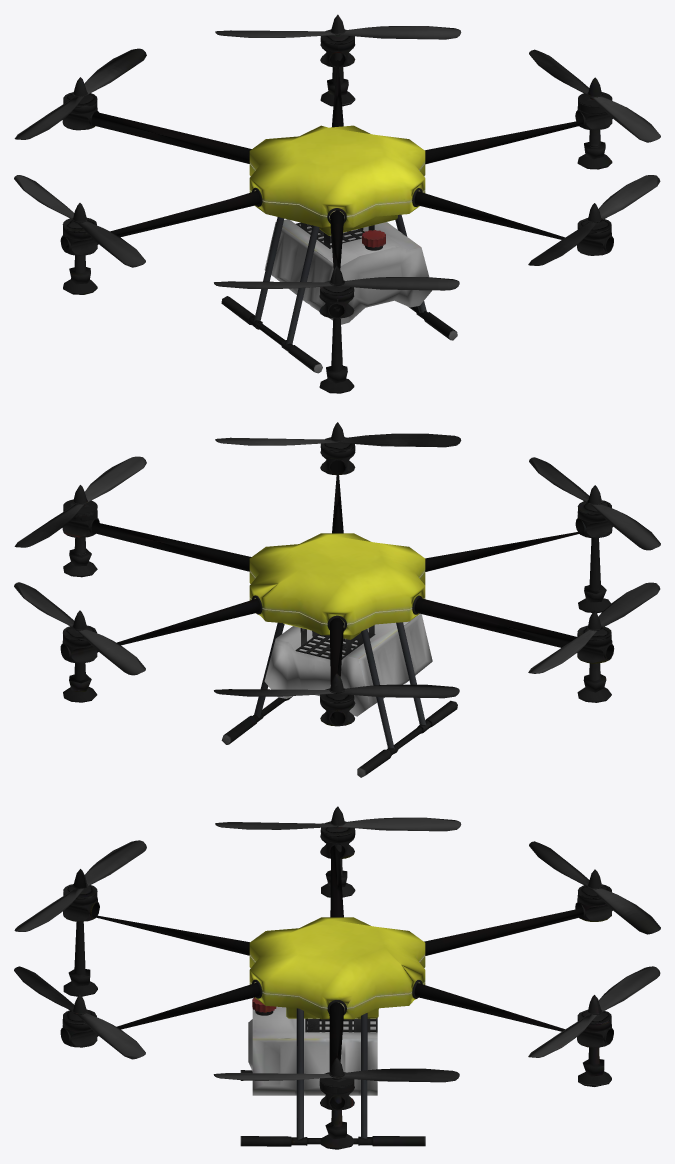
The model's file is quad-heavy.glb.
3 views of the same model, one above another, from view 1: azimuth 30°, elevation 25°; view 2: azimuth 150°, elevation 25°; view 3: azimuth 270°, elevation 25° (orthographic).
Visible parts, largest first — view 1: pCylinder20, pCylinder7, polySurface24, polySurface9, polySurface6, polySurface5, polySurface8, polySurface7, polySurface4, pCylinder26, pCylinder23, polySurface13 (+6 smaller); view 2: pCylinder20, pCylinder7, polySurface24, polySurface7, polySurface4, polySurface9, polySurface6, polySurface5, polySurface8, pCylinder26, pCylinder23, polySurface13 (+9 smaller); view 3: pCylinder20, pCylinder7, polySurface24, polySurface5, polySurface8, polySurface7, polySurface9, polySurface4, polySurface6, pCylinder26, pCylinder23, polySurface13 (+6 smaller).
Part boxes in pixels (x1,y1,x2,y2): pCylinder20: (249, 125, 425, 227); pCylinder7: (64, 60, 607, 315); polySurface24: (264, 219, 431, 324); polySurface9: (214, 266, 459, 290); polySurface6: (215, 14, 461, 39); polySurface5: (529, 49, 660, 142); polySurface8: (14, 175, 145, 267); polySurface7: (14, 48, 146, 139); polySurface4: (528, 175, 660, 265); pCylinder26: (254, 214, 426, 344); pCylinder23: (221, 296, 457, 373); polySurface13: (319, 306, 354, 393); pCylinder20: (249, 533, 425, 635); pCylinder7: (67, 461, 612, 724); polySurface24: (264, 613, 432, 716); polySurface7: (214, 673, 459, 698); polySurface4: (215, 422, 461, 447); polySurface9: (529, 457, 660, 550); polySurface6: (14, 582, 145, 675); polySurface5: (14, 456, 146, 547); polySurface8: (528, 582, 660, 673); pCylinder26: (254, 622, 426, 748); pCylinder23: (221, 696, 457, 777); polySurface13: (578, 538, 610, 613); pCylinder20: (249, 917, 425, 1019); pCylinder7: (92, 845, 583, 1108); polySurface24: (248, 998, 377, 1095); polySurface5: (213, 1057, 459, 1082); polySurface8: (215, 806, 461, 831); polySurface7: (529, 841, 660, 934); polySurface9: (14, 840, 146, 931); polySurface4: (14, 966, 145, 1059); polySurface6: (528, 966, 660, 1057); pCylinder26: (296, 1008, 367, 1139); pCylinder23: (240, 1070, 425, 1146); polySurface13: (63, 921, 97, 996).
Bounding box in the file's own units: 0.2092 × 0.0667 × 0.2151.
Materials: 1 (1 with a texture image).
